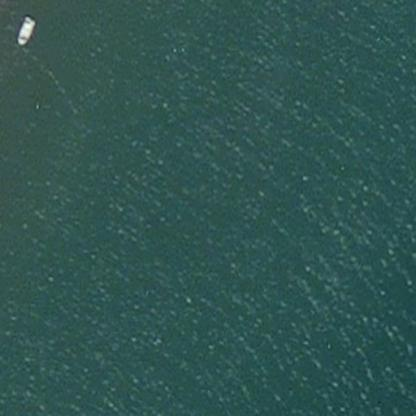ship: (16, 13, 36, 50)
